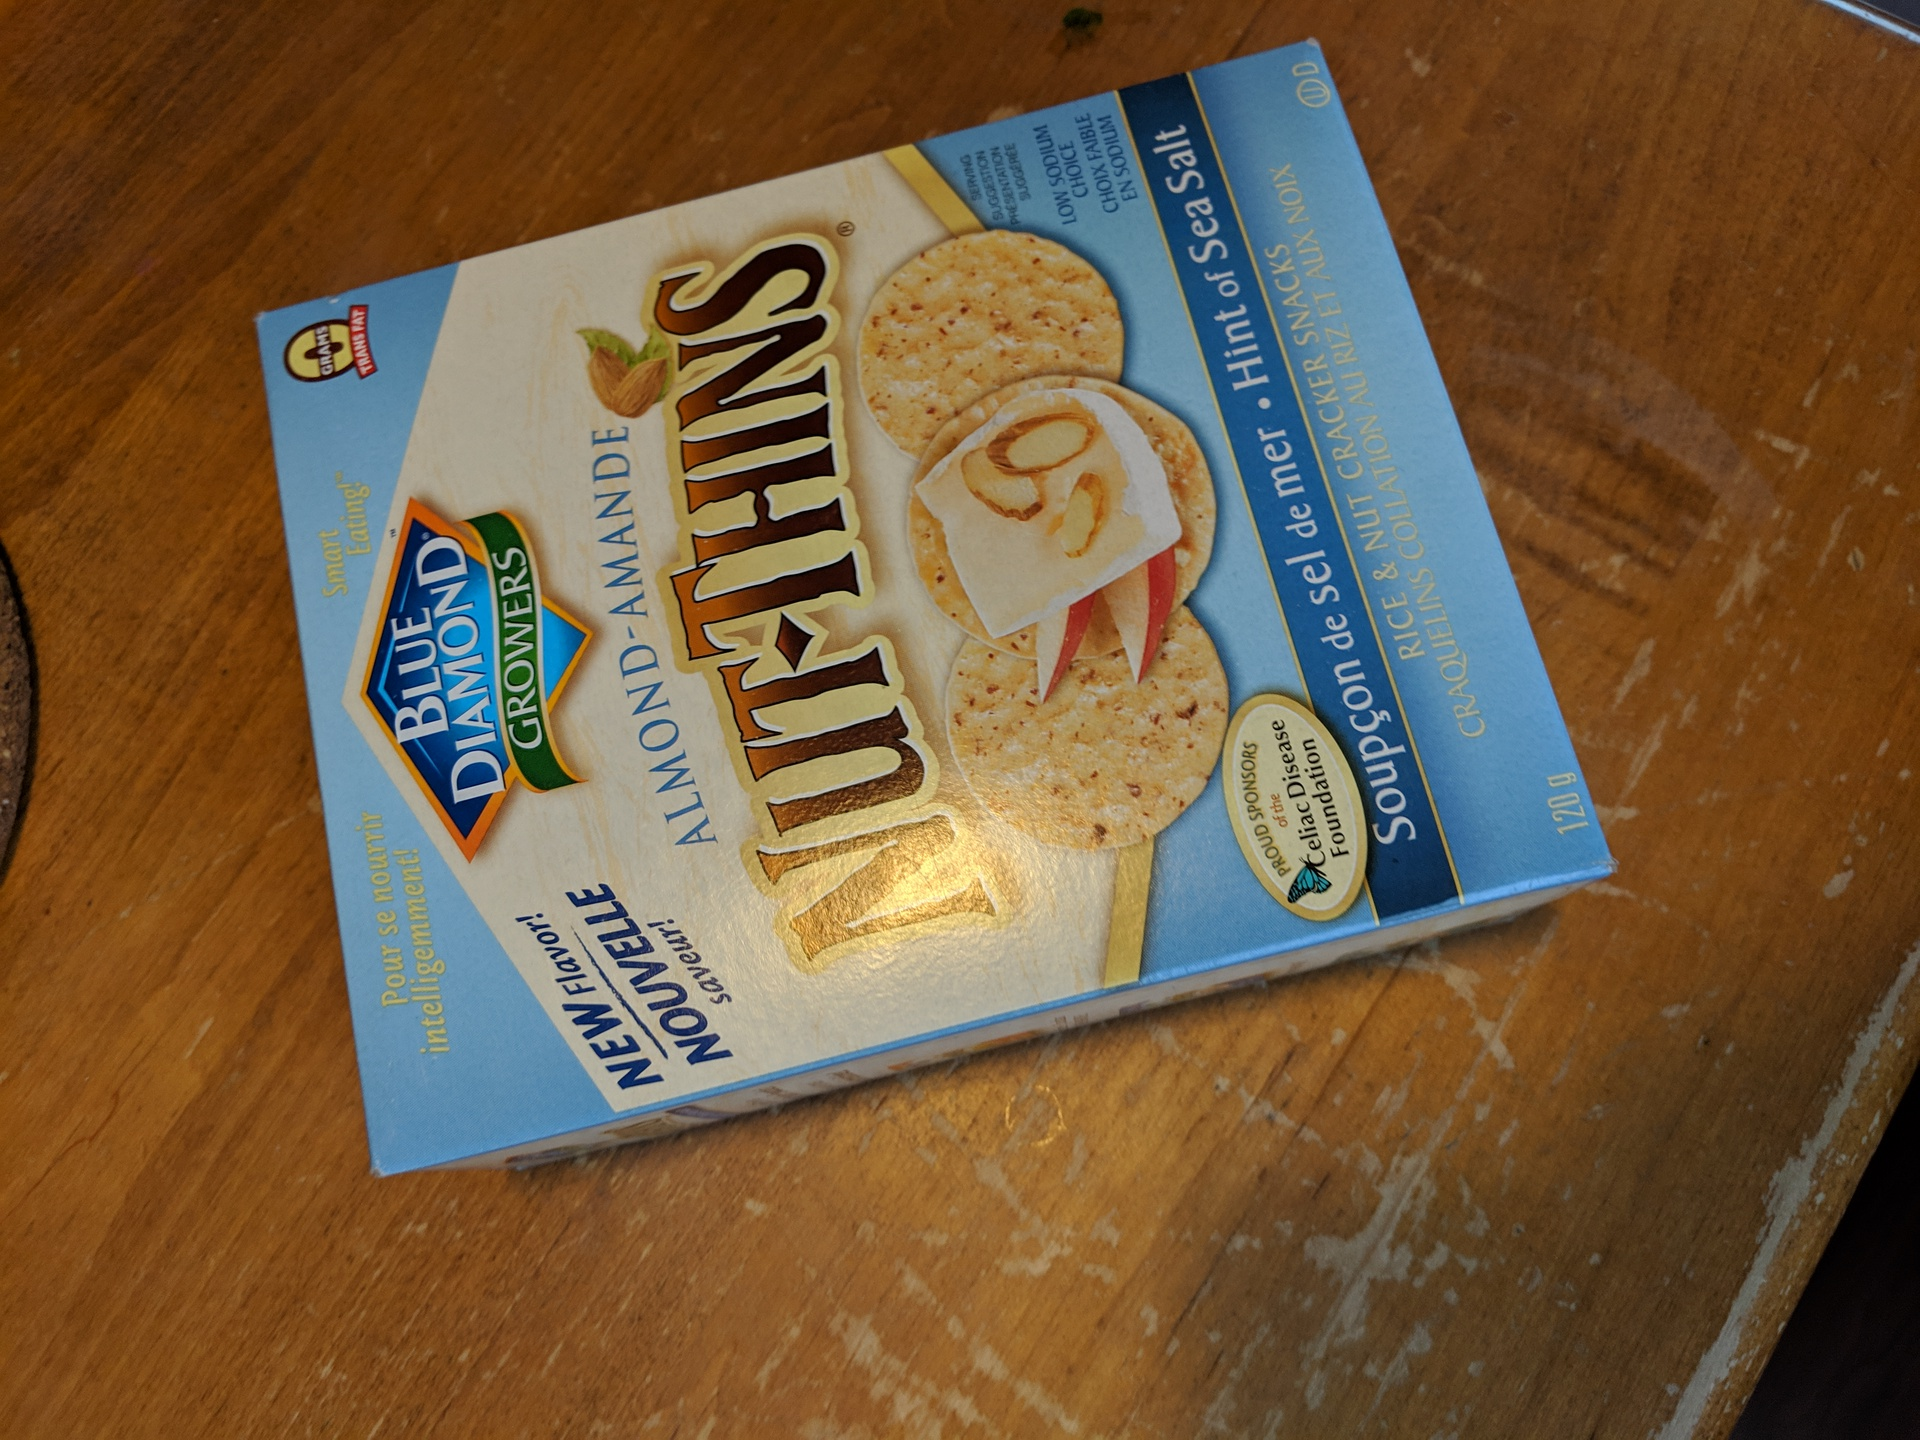blue_diamond_nut_thins_almond_seasalt: (345, 293, 1317, 933)
